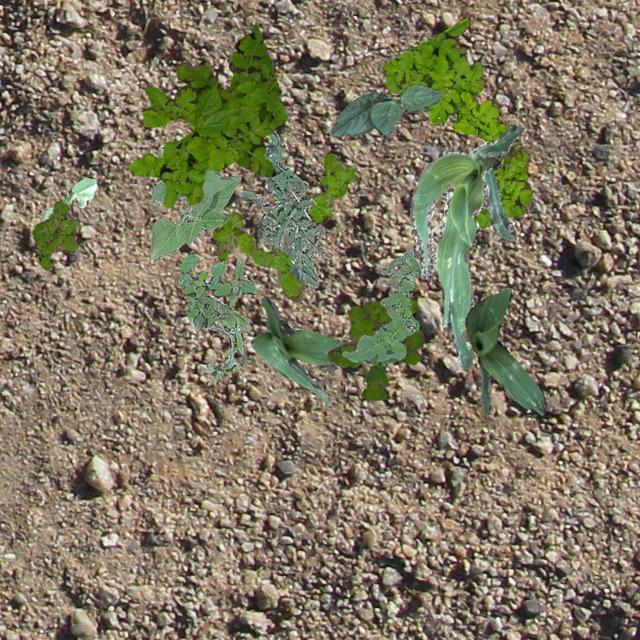crop: (408, 123, 522, 370), (148, 143, 240, 260), (464, 288, 546, 416), (250, 296, 344, 404), (328, 82, 441, 138), (41, 177, 96, 220)
weed: (382, 18, 532, 228), (128, 22, 286, 208), (212, 152, 354, 300), (240, 130, 328, 286), (326, 298, 424, 400), (340, 248, 420, 364), (178, 252, 255, 330), (202, 300, 250, 384), (32, 200, 78, 270)
